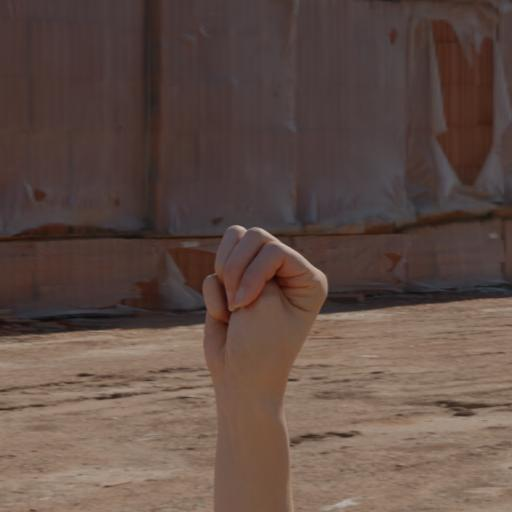M: (166, 201, 364, 425)
